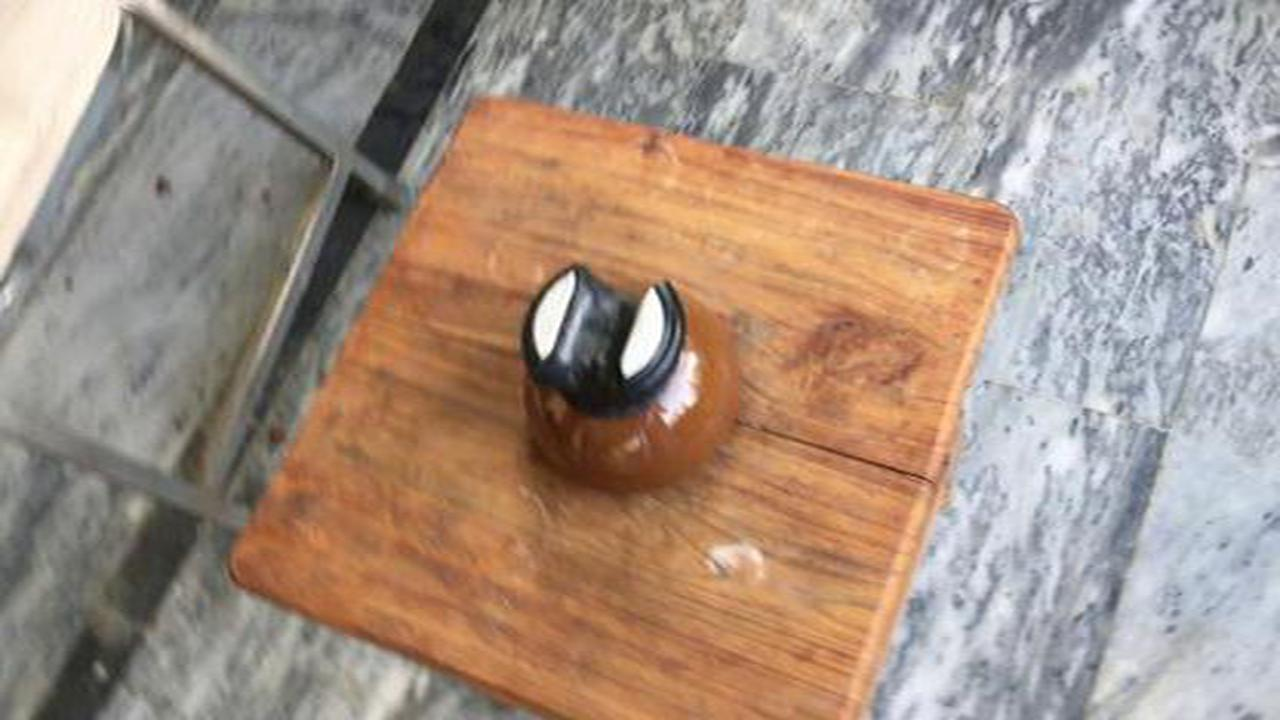insulator_pin: (493, 250, 764, 508)
